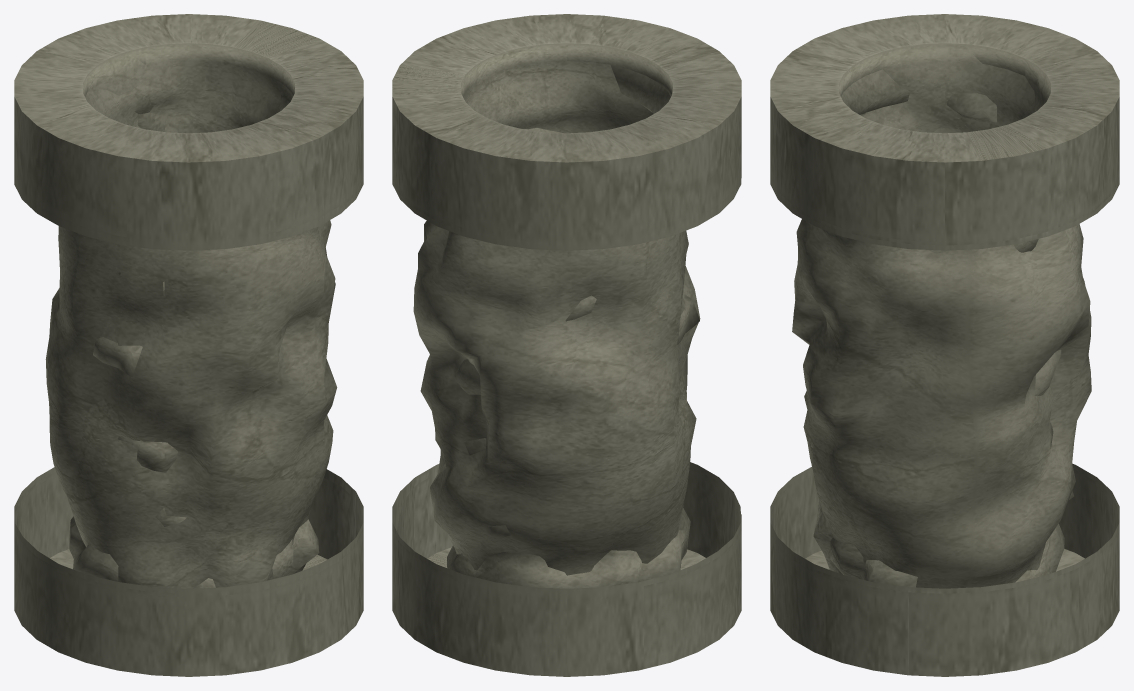
Rendered from Chimneyf.fbx.
3 views of the same model, side by side, from view 1: azimuth 30°, elevation 25°; view 2: azimuth 150°, elevation 25°; view 3: azimuth 270°, elevation 25° (orthographic).
Visible parts, largest first — view 1: Chimney_2, Chimney_3, Chimney_1; view 2: Chimney_2, Chimney_1, Chimney_3; view 3: Chimney_2, Chimney_3, Chimney_1.
Boxes of the visible parts, left/top/right/bottom form: Chimney_2: left=14, top=52, right=363, bottom=639; Chimney_3: left=14, top=14, right=363, bottom=676; Chimney_1: left=14, top=43, right=363, bottom=676; Chimney_2: left=392, top=43, right=741, bottom=676; Chimney_1: left=392, top=43, right=741, bottom=676; Chimney_3: left=392, top=14, right=741, bottom=662; Chimney_2: left=771, top=47, right=1119, bottom=676; Chimney_3: left=770, top=14, right=1119, bottom=675; Chimney_1: left=770, top=44, right=1119, bottom=593.
Bounding box in the file's own units: 25.3 × 40.86 × 25.16.
Materials: 1 (1 with a texture image).
